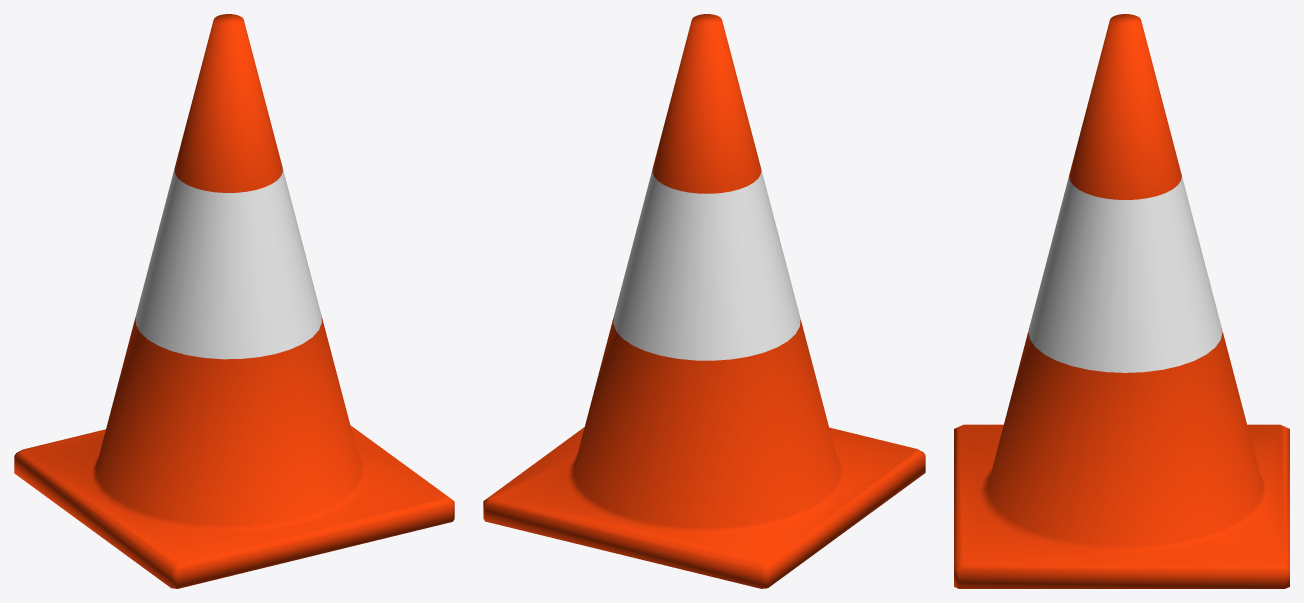
File: traffic_cone.obj
3 renders of one model, left to right at view 1: azimuth 30°, elevation 25°; view 2: azimuth 150°, elevation 25°; view 3: azimuth 270°, elevation 25°, orthographic. The views are drawn at different scales.
Visible parts, largest first — view 1: Box001; view 2: Box001; view 3: Box001.
Part boxes in pixels (<box>): Box001: <box>14,14,454,588</box>; Box001: <box>483,14,925,588</box>; Box001: <box>954,14,1289,588</box>.
Size of what is drawn, in the model's own units: 16.65 by 26.71 by 16.44.
